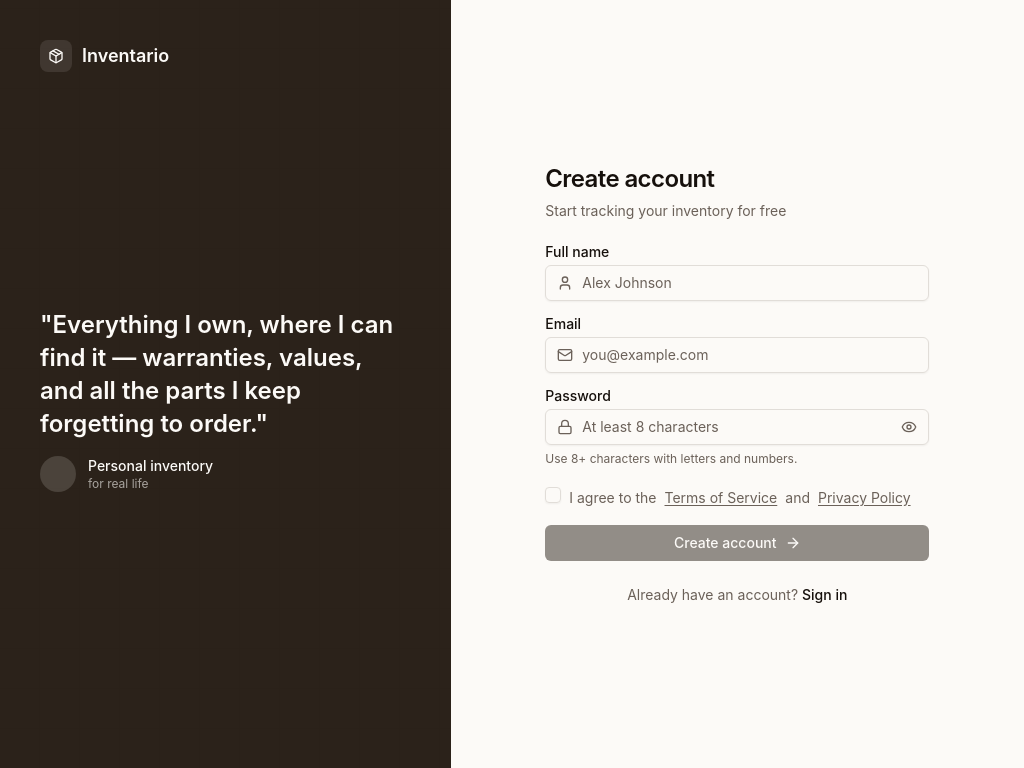
it: <RegisterPage /> › requires terms acceptance before submitting
The width and height of the screenshot is (1024, 768).
In the field with test id "name": (737, 283) top-left (545, 265), bottom-right (929, 301), type "Alex"
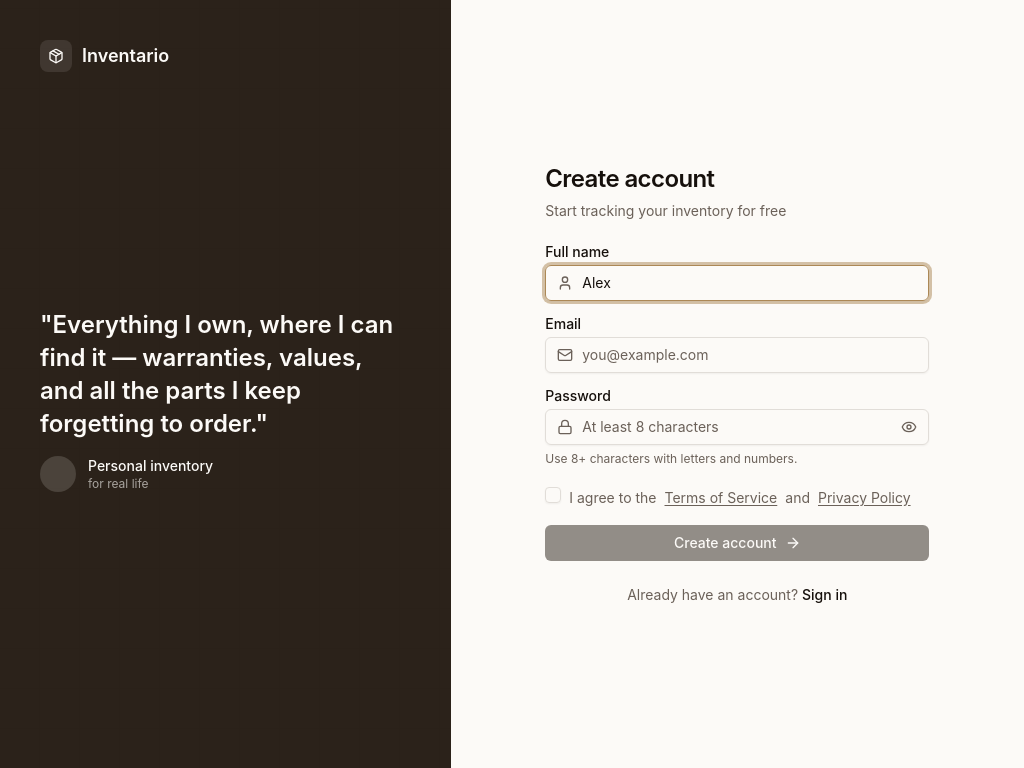
In the field with test id "email": (737, 355) top-left (545, 337), bottom-right (929, 373), type "alex@example.com"
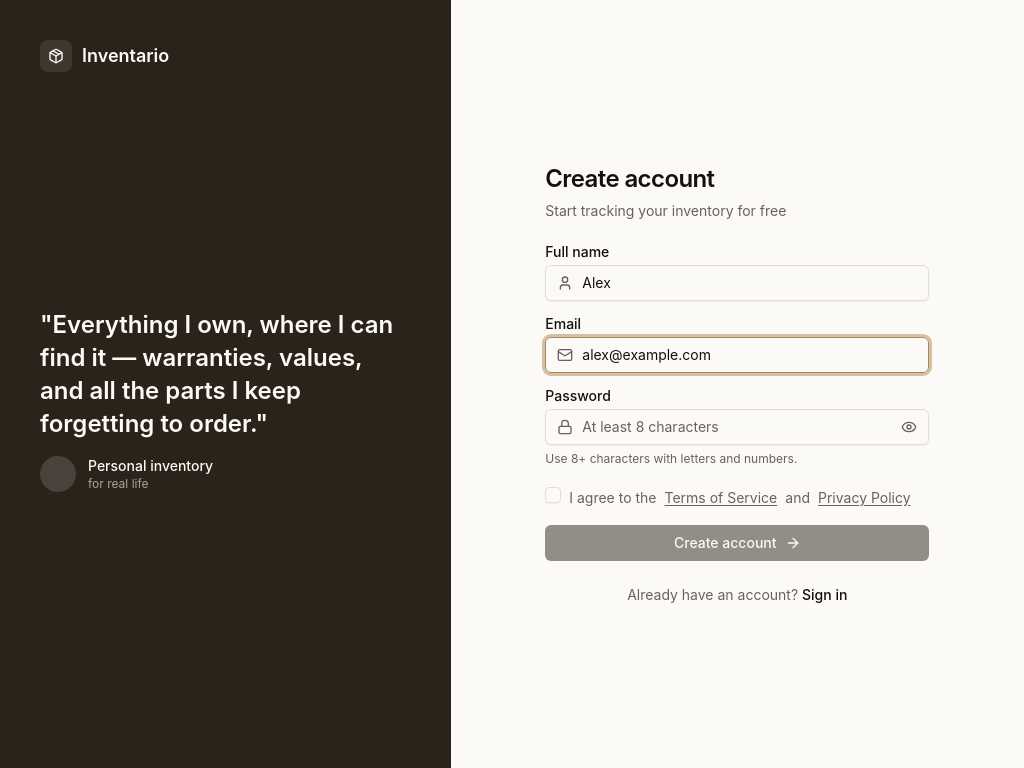
In the password field with test id "password": (737, 427) top-left (545, 409), bottom-right (929, 445), type "secret-pw"
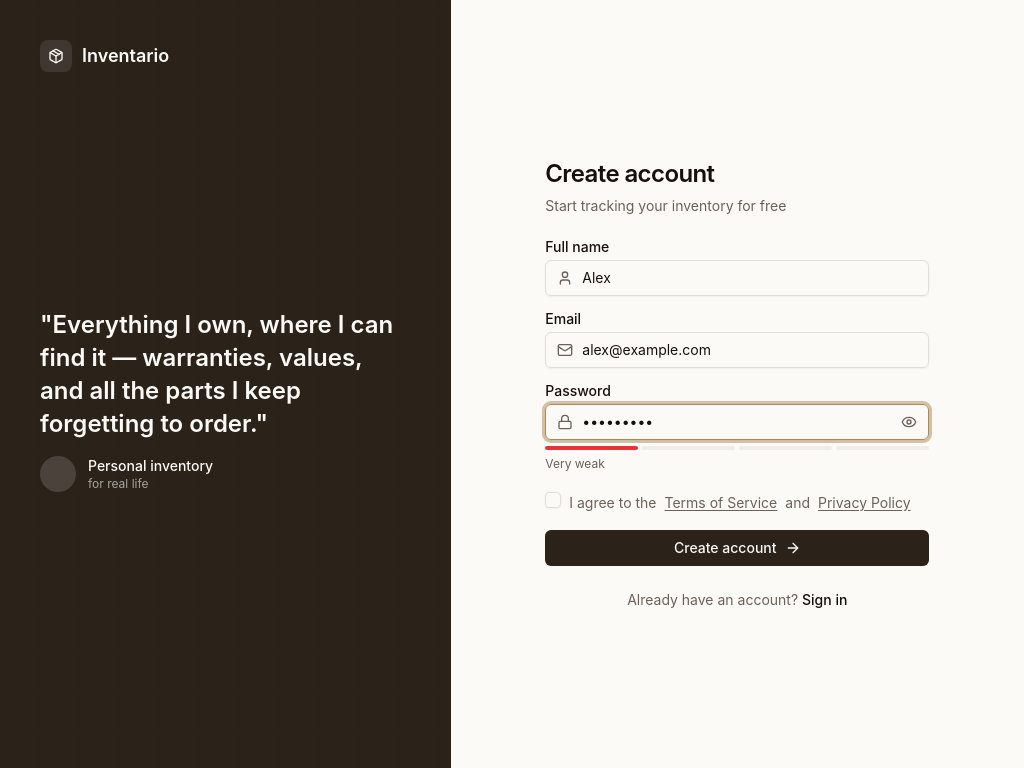
Click the button with test id "register-button": (737, 548) top-left (545, 530), bottom-right (929, 566)
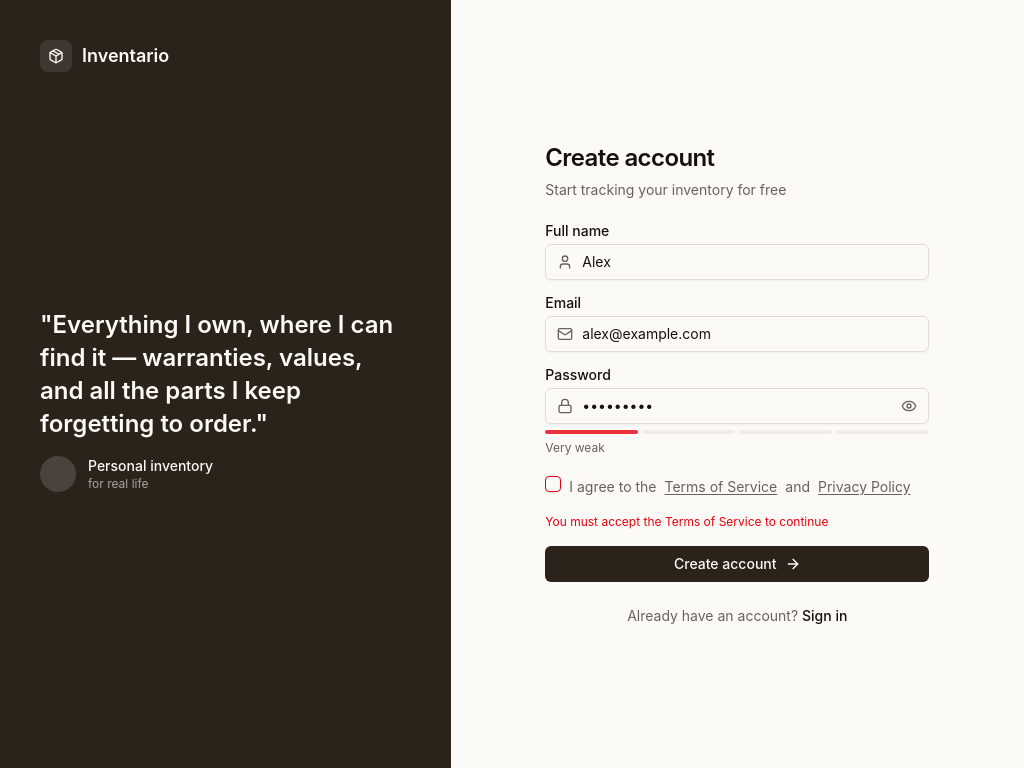
Now the text "You must accept the Terms of Service to continue" is shown, box top-left (545, 514), bottom-right (828, 529)
